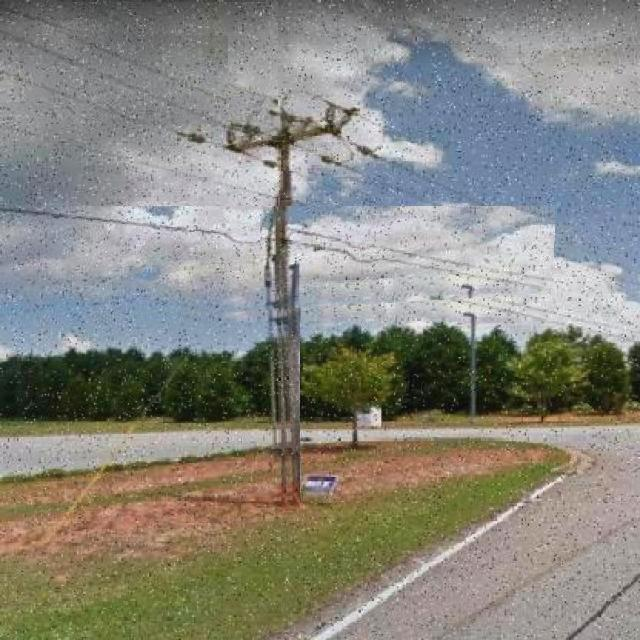crossarm: (222, 99, 361, 171)
pole: (278, 111, 300, 507)
wire: (0, 206, 554, 300), (1, 2, 278, 108), (0, 28, 227, 124)
